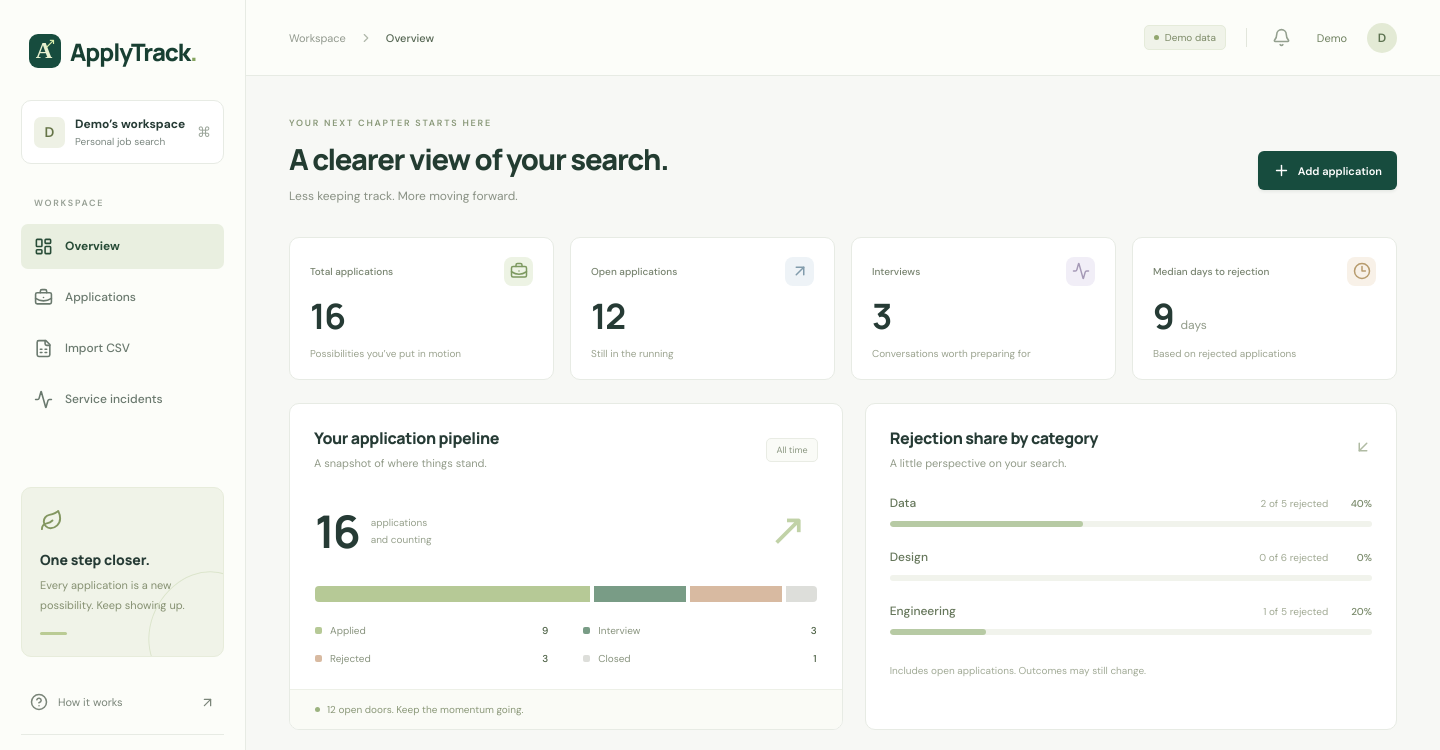
Test case: interactive workspace › adds an application and persists it
Click the button "Add application" at [1327, 171], box [1258,151,1397,190]
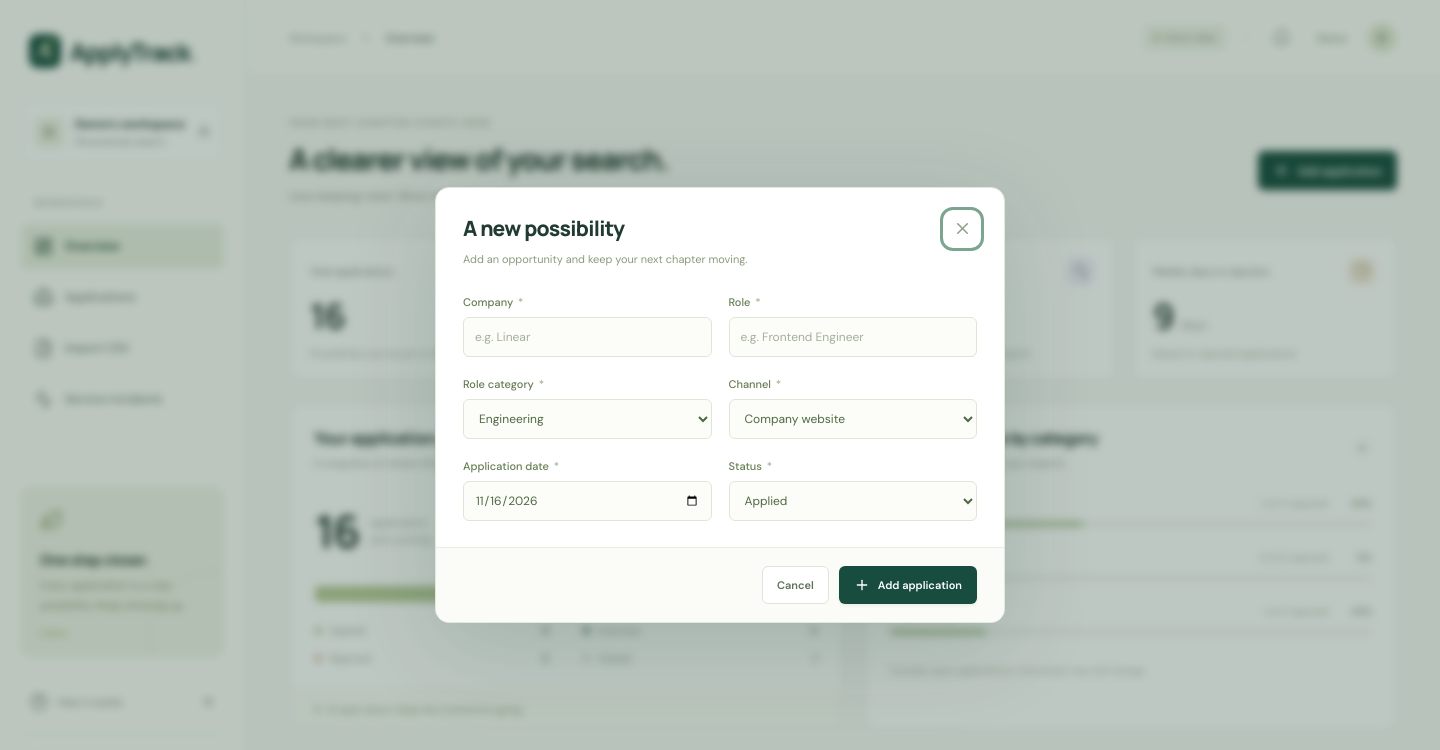
Type "Test Company" into the field labelled "Company *" at [587, 337], box [463,317,712,357]
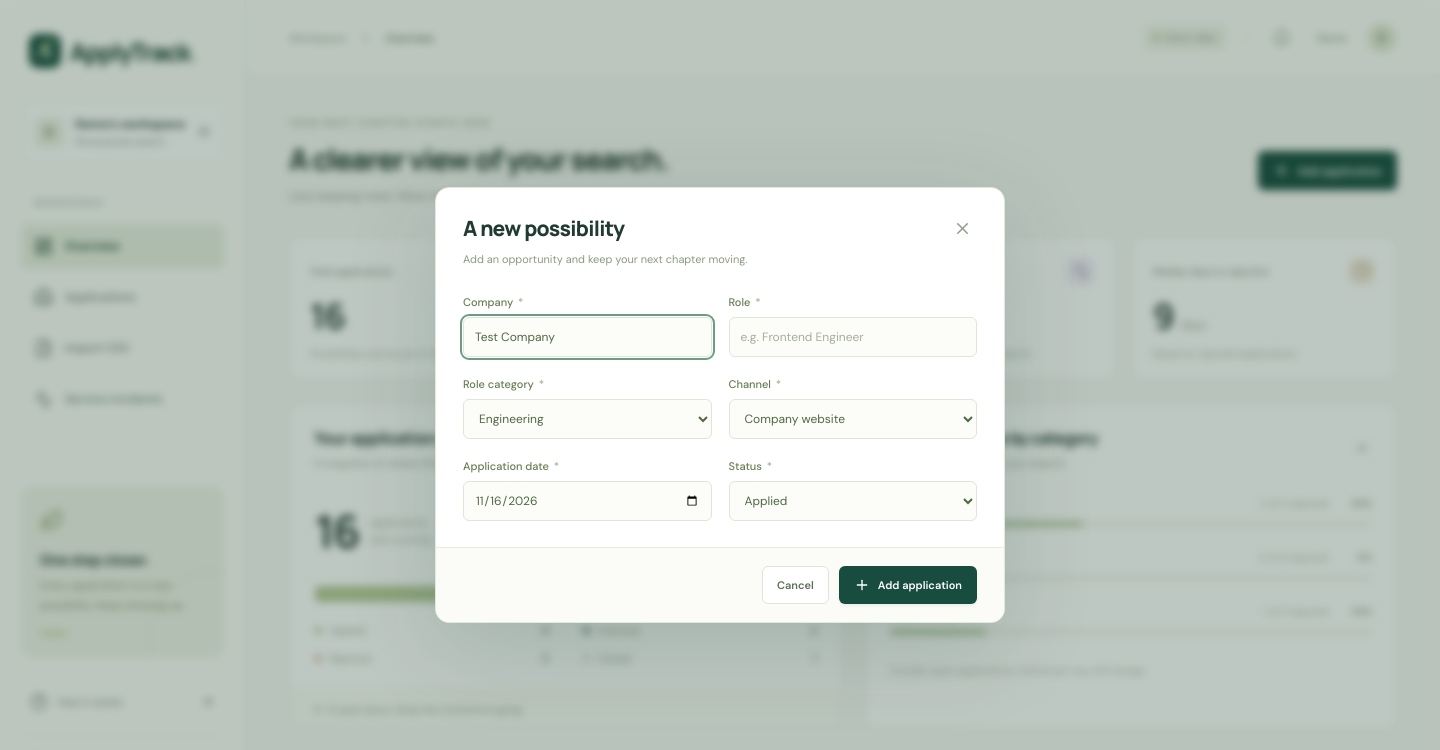
Type "Frontend Engineer" into the field labelled "Role *" at [853, 337], box [728,317,977,357]
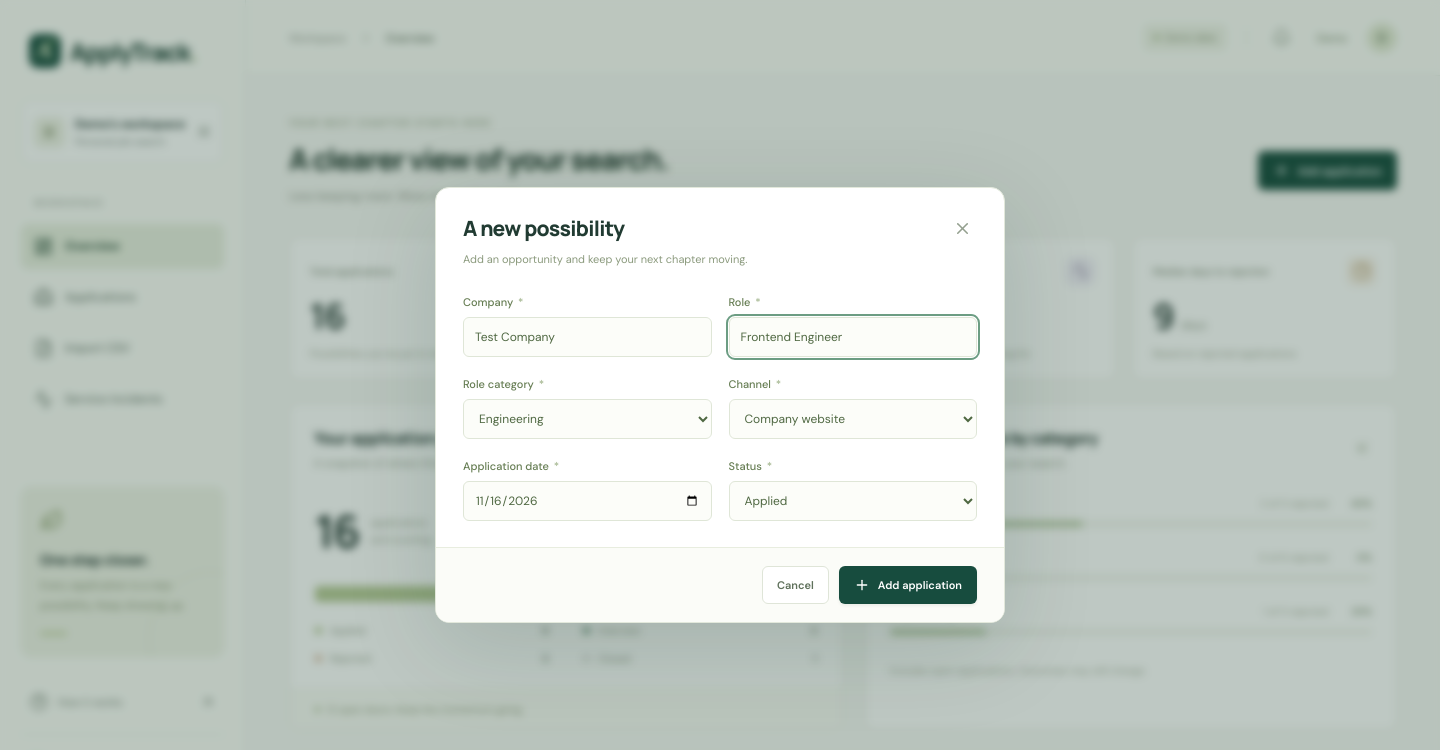
Click the button "Add application" at [908, 585], box [839,566,977,604]
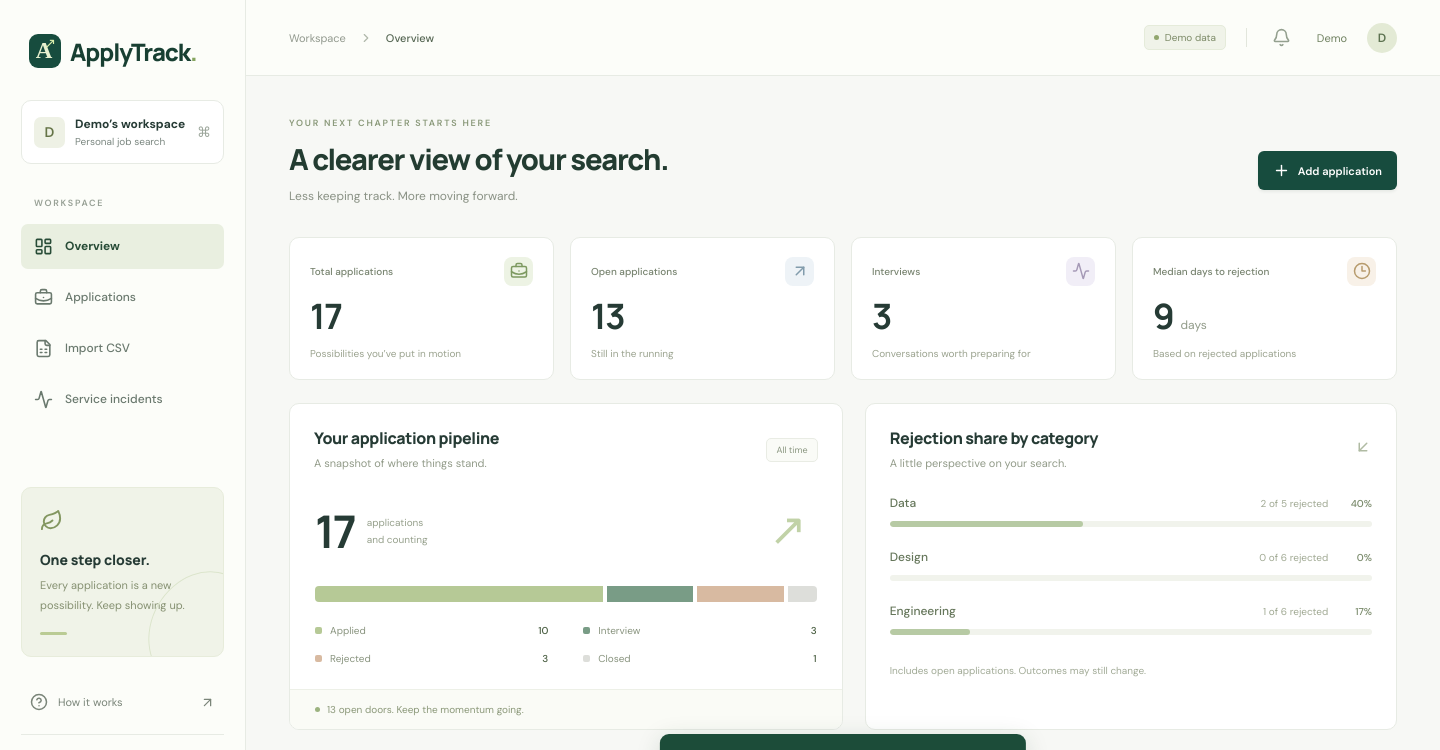
Now the dialog is gone
